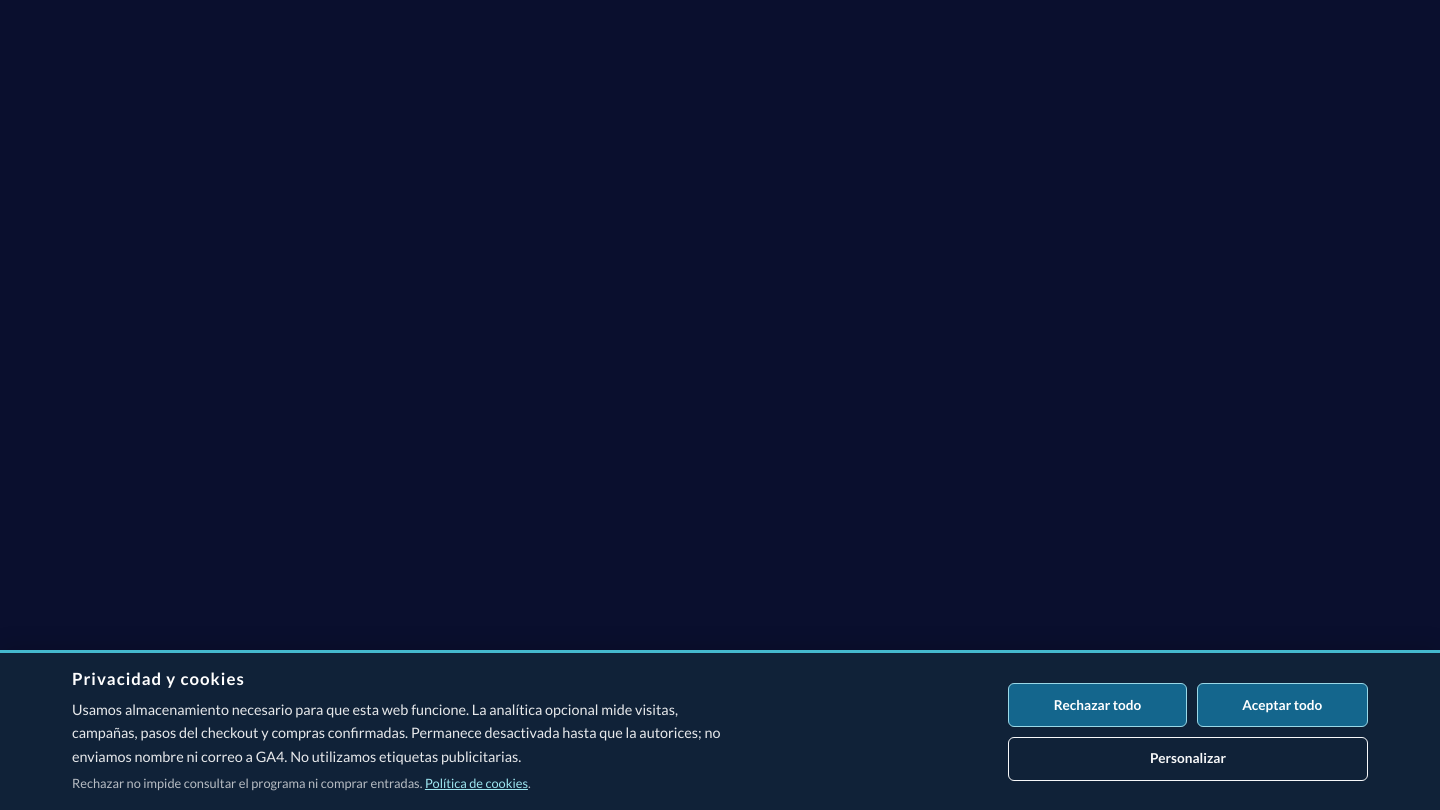
Test: CookieConsentBanner › should open preferences modal when Personalizar is clicked
The width and height of the screenshot is (1440, 810).
Click the button "Personalizar" at (1188, 758), box top-left (1008, 736), bottom-right (1368, 780)
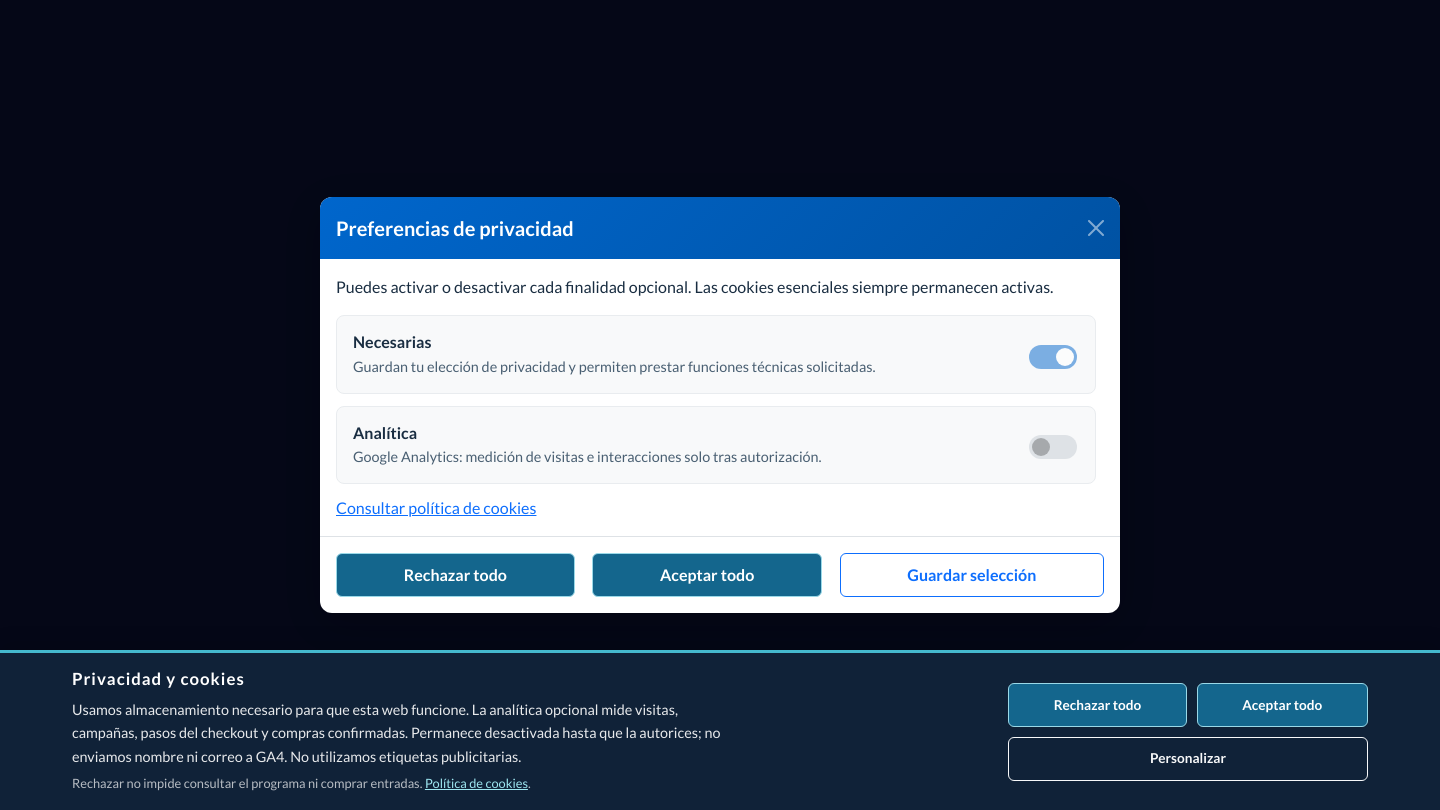
Now the text "Preferencias de privacidad" is shown, box top-left (336, 213), bottom-right (574, 243)
Now the heading "Necesarias" is shown, box top-left (353, 332), bottom-right (432, 351)
Now the heading "Analítica" is shown, box top-left (353, 422), bottom-right (417, 442)
